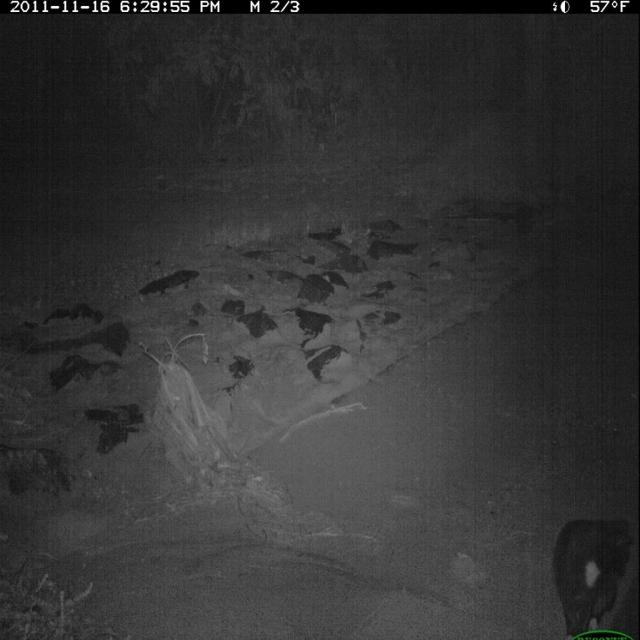cat: (541, 505, 633, 640)
